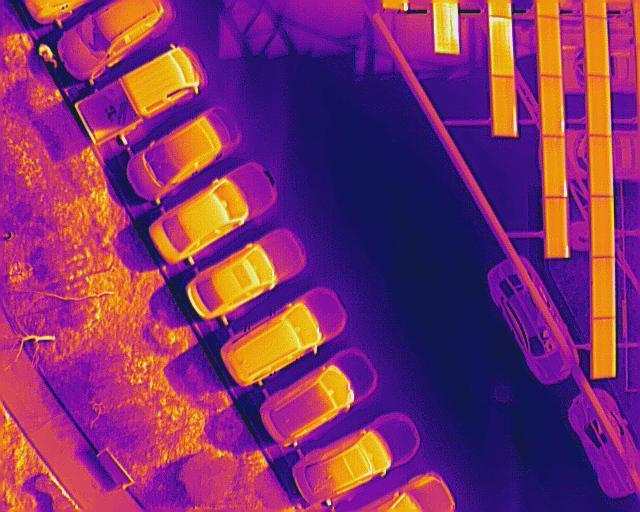No-Anomaly: (584, 17, 611, 75), (589, 135, 614, 197), (539, 76, 564, 138), (545, 196, 569, 259), (542, 135, 566, 198), (587, 75, 611, 137), (592, 257, 615, 320), (591, 196, 614, 257), (538, 18, 561, 78), (593, 320, 615, 378)
Unclassified: (490, 15, 514, 77), (492, 76, 516, 136), (435, 1, 461, 53)
